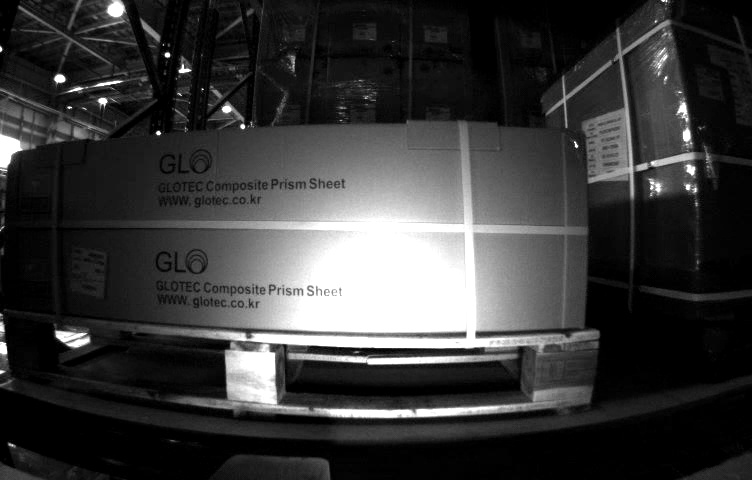True Barcode: (71, 244, 106, 297), (693, 59, 725, 105)
